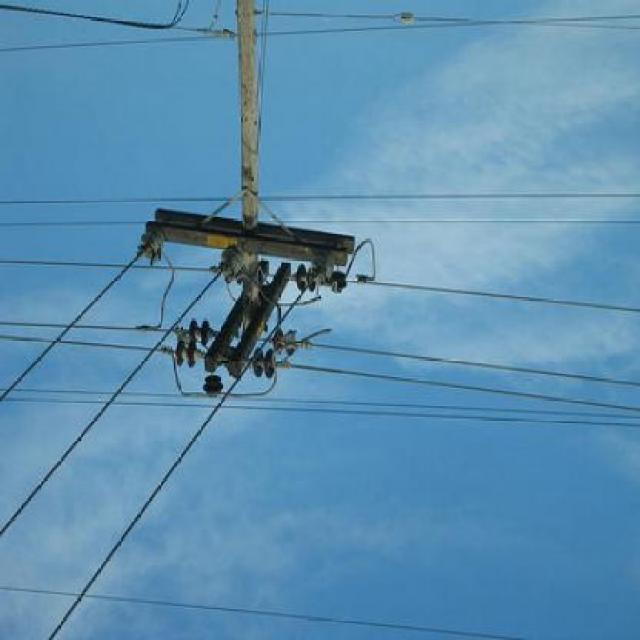pole: (140, 0, 374, 377)
